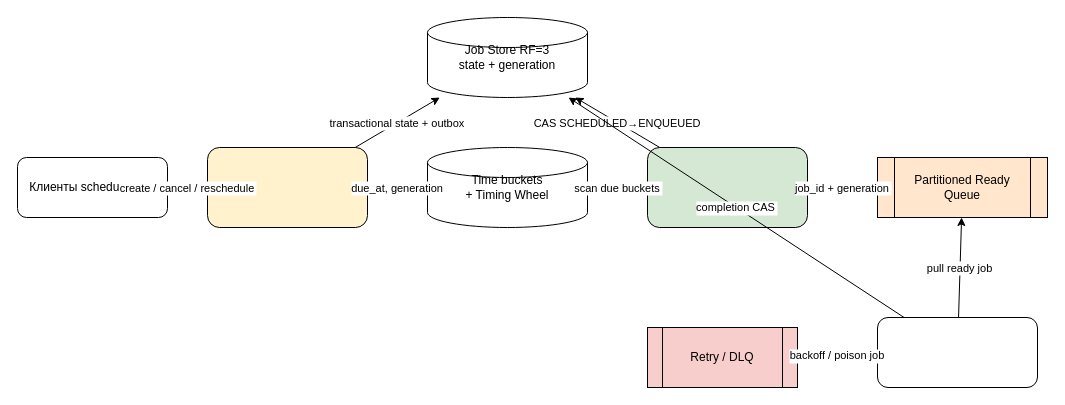
The diagram is 1065 pixels wide and 405 high, and some of its shapes have lost their labels. The centre of each missing label's shape, as x and y in pixels:
"Job API idempotency + CAS" belongs at [287,187].
"Scanner leader lease + fencing" belongs at [727,187].
"Workers lease + heartbeat" belongs at [957,352].
